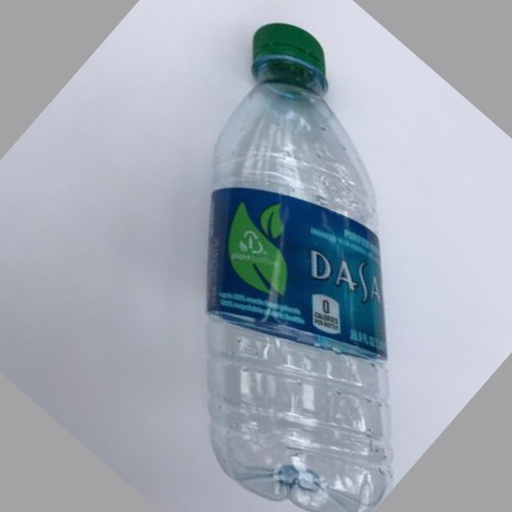Plastic_0: (206, 20, 395, 512)
